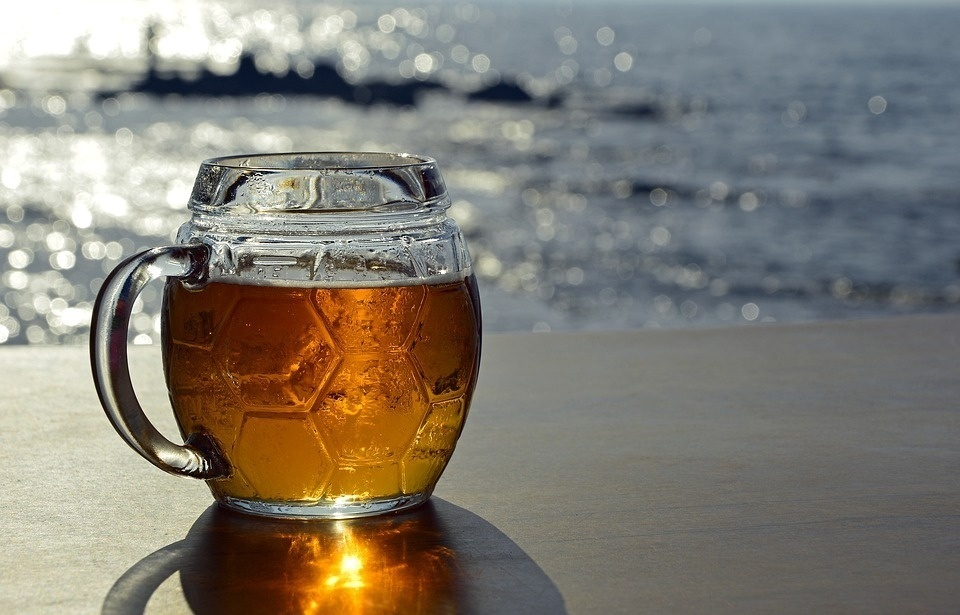whiskey: (139, 157, 477, 503)
